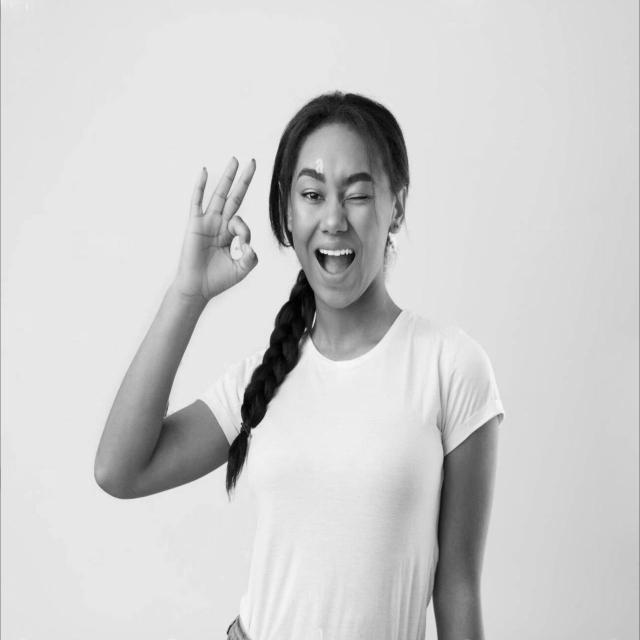perfect: (168, 150, 264, 308)
